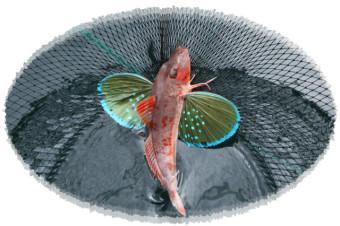fish: (97, 46, 241, 218)
